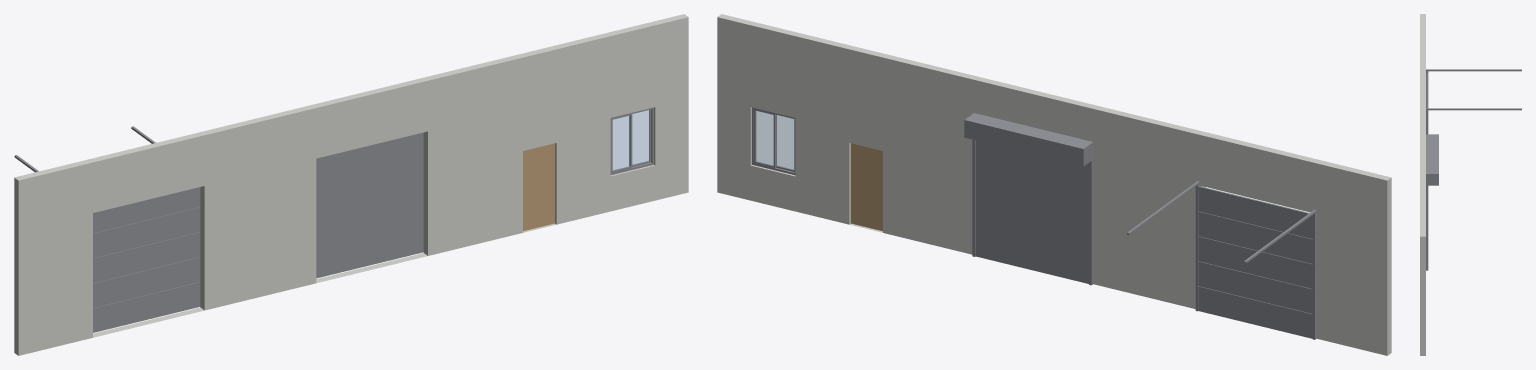
Rendered from industrial-gates.glb.
3 views of the same model, side by side, from view 1: azimuth 30°, elevation 25°; view 2: azimuth 150°, elevation 25°; view 3: azimuth 270°, elevation 25° (orthographic). The views are drawn at different scales.
Visible parts, largest first — view 1: 100002, 100003, 100004, 100005, 100006; view 2: 100002, 100004, 100003, 100005, 100006; view 3: 100002, 100004, 100003.
Boxes of the visible parts, x1=… form: 100002: x1=14, y1=14, x2=688, y2=355; 100003: x1=14, y1=126, x2=200, y2=332; 100004: x1=316, y1=132, x2=423, y2=278; 100005: x1=523, y1=143, x2=554, y2=231; 100006: x1=610, y1=107, x2=653, y2=174; 100002: x1=717, y1=14, x2=1391, y2=355; 100004: x1=964, y1=113, x2=1093, y2=285; 100003: x1=1127, y1=181, x2=1316, y2=339; 100005: x1=851, y1=143, x2=882, y2=231; 100006: x1=752, y1=107, x2=795, y2=174; 100002: x1=1420, y1=14, x2=1425, y2=355; 100004: x1=1426, y1=134, x2=1438, y2=270; 100003: x1=1426, y1=69, x2=1521, y2=134.
Bounding box in the file's own units: 18 × 4.5 × 3.48.
